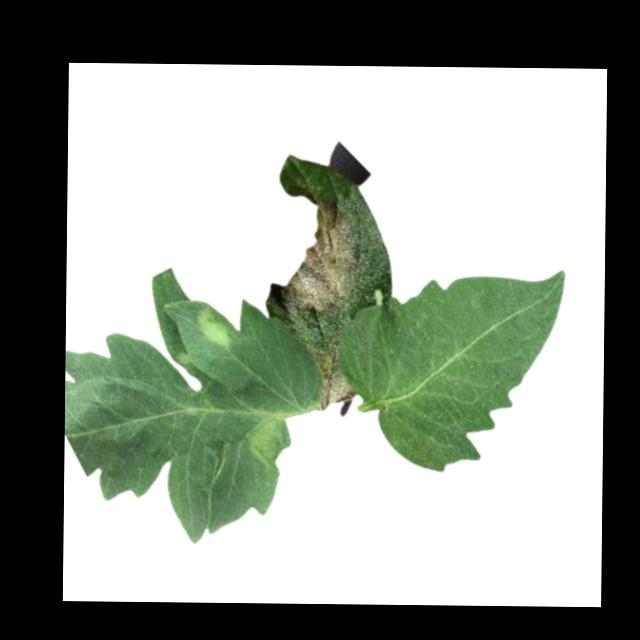Late_blight: (269, 201, 361, 322), (307, 343, 356, 412), (246, 410, 291, 466), (196, 303, 236, 349)
healthy: (338, 266, 566, 474)
